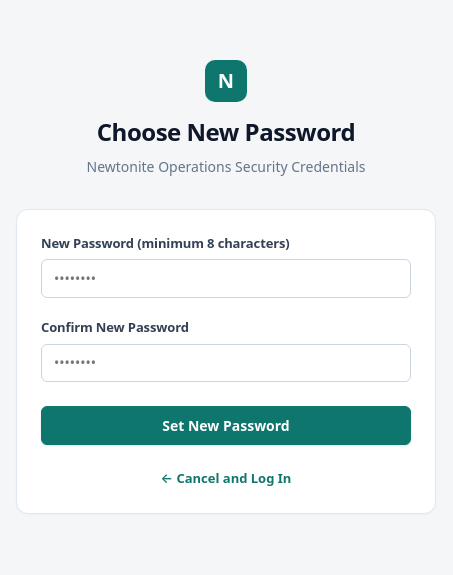
Test: ResetPassword Page › validates password length and matching confirmation before submitting
Expected: the password field labelled "Confirm New Password" is shown, x1=41 y1=344 x2=411 y2=382
Note: Short password
Type "short" into the password field labelled "New Password (minimum 8 characters)". click: (226, 279)
box: x1=41 y1=259 x2=411 y2=298
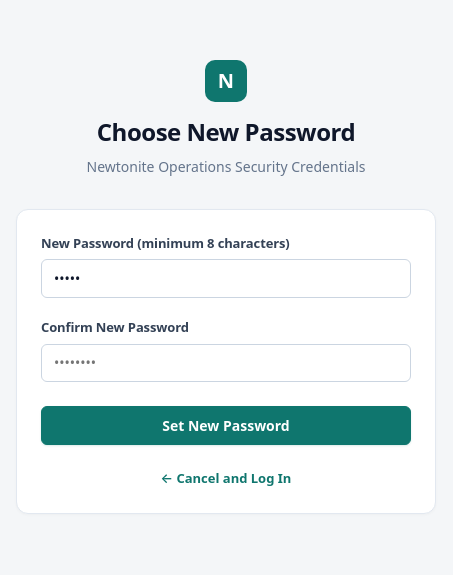
Type "short" into the password field labelled "Confirm New Password". click: (226, 363)
box: x1=41 y1=344 x2=411 y2=382
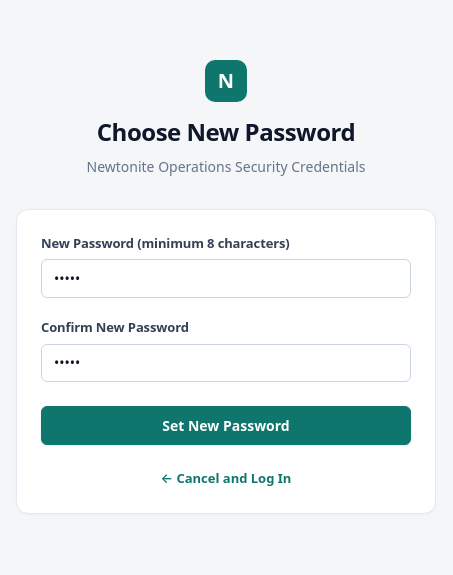
Click the button "Set New Password". click: (226, 425)
box: x1=41 y1=406 x2=411 y2=445
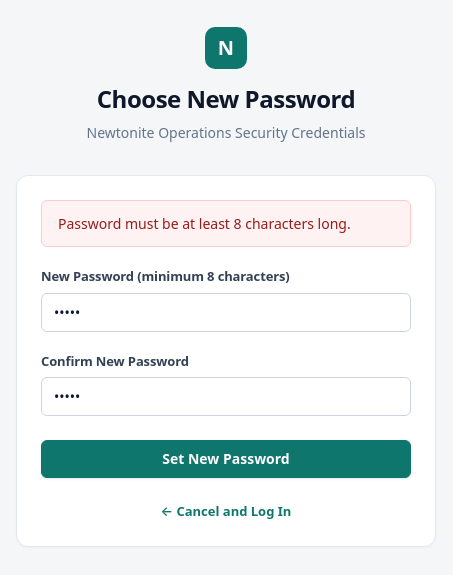
Expected: the message shows "at least 8 characters", x1=58 y1=214 x2=351 y2=233
Note: Mismatched confirmation
Type "password123" into the password field labelled "New Password (minimum 8 characters)". click: (226, 312)
box: x1=41 y1=293 x2=411 y2=332
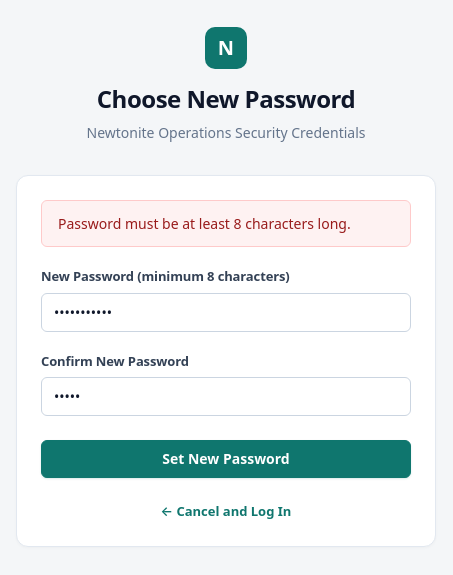
Type "different123" into the password field labelled "Confirm New Password". click: (226, 396)
box: x1=41 y1=377 x2=411 y2=416
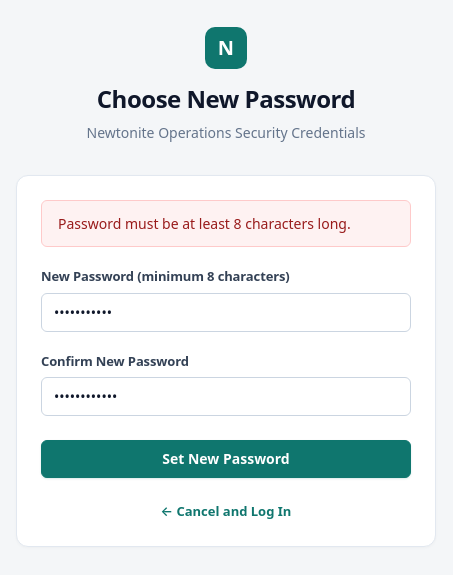
Click the button "Set New Password". click: (226, 459)
box: x1=41 y1=440 x2=411 y2=478
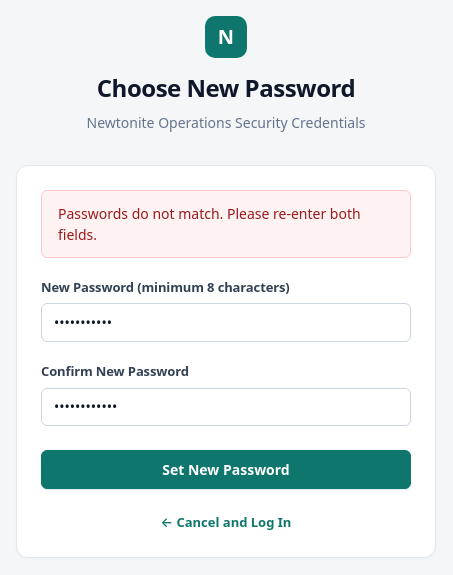
Expected: the message shows "Passwords do not match", x1=58 y1=204 x2=361 y2=244
